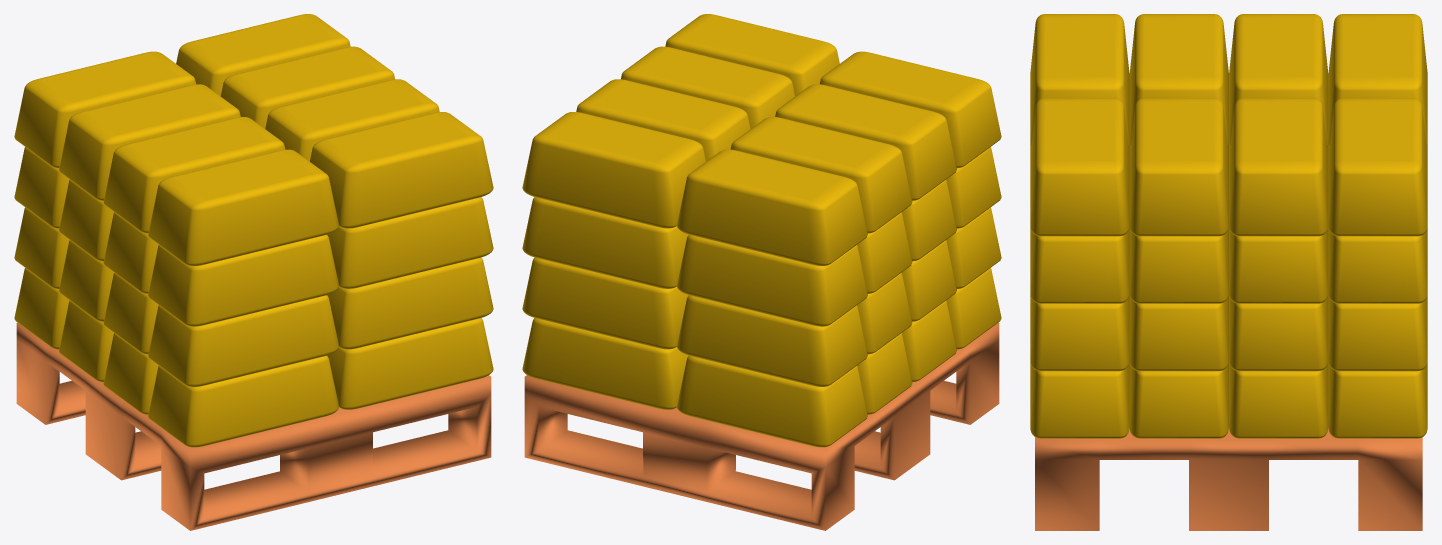
File: cube_gold.glb
3 views of the same model, side by side, from view 1: azimuth 30°, elevation 25°; view 2: azimuth 150°, elevation 25°; view 3: azimuth 270°, elevation 25° (orthographic). The views are drawn at different scales.
Visible parts, largest first — view 1: cube_gold; view 2: cube_gold; view 3: cube_gold.
Part boxes in pixels (bbox=[...]): cube_gold: bbox=[14, 14, 493, 530]; cube_gold: bbox=[522, 14, 1001, 530]; cube_gold: bbox=[1030, 14, 1427, 530].
Bounding box in the file's own units: 2 × 2 × 2.
